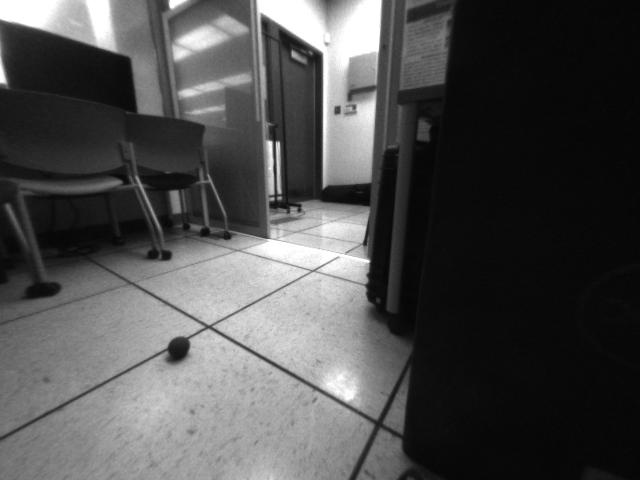dogtoy: (163, 329, 198, 364)
